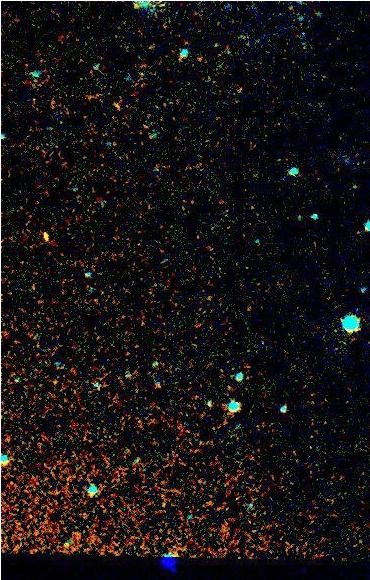star: (32, 221, 62, 251)
